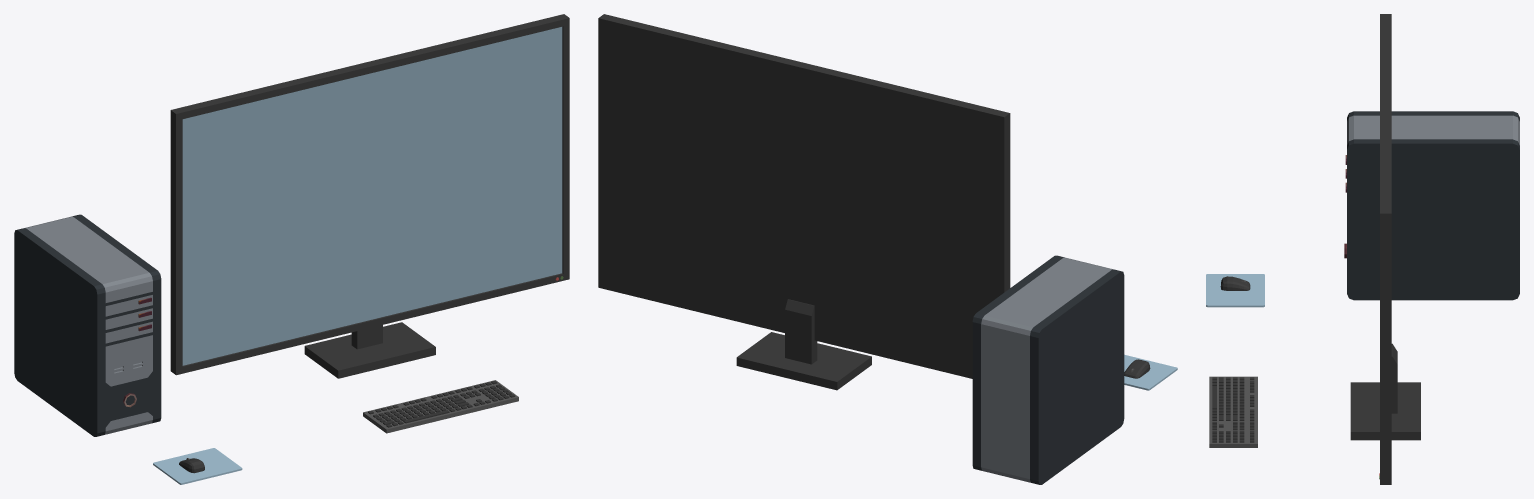
Rendered from computer.fbx.
The picture shows the model from 3 angles, left to right: view 1: azimuth 30°, elevation 25°; view 2: azimuth 150°, elevation 25°; view 3: azimuth 270°, elevation 25°; orthographic projection. The views are drawn at different scales.
Visible parts, largest first — view 1: TV_04, Pc2_C2, PC_Keyboard_01, PC_mat_02; view 2: TV_04, Pc2_C2, PC_mat_02; view 3: Pc2_C2, TV_04, PC_Keyboard_01, PC_mat_02, PC_Mouse_01.
Boxes of the visible parts, bbox=[...] form: TV_04: bbox=[170, 14, 569, 378]; Pc2_C2: bbox=[14, 214, 161, 436]; PC_Keyboard_01: bbox=[363, 380, 518, 433]; PC_mat_02: bbox=[153, 448, 242, 484]; TV_04: bbox=[598, 14, 1010, 390]; Pc2_C2: bbox=[972, 255, 1124, 484]; PC_mat_02: bbox=[1124, 354, 1177, 390]; Pc2_C2: bbox=[1344, 111, 1519, 300]; TV_04: bbox=[1350, 14, 1420, 484]; PC_Keyboard_01: bbox=[1209, 376, 1257, 447]; PC_mat_02: bbox=[1206, 274, 1264, 307]; PC_Mouse_01: bbox=[1220, 276, 1250, 290].
Size of the model in its own units: 153 by 86.76 by 81.7.
